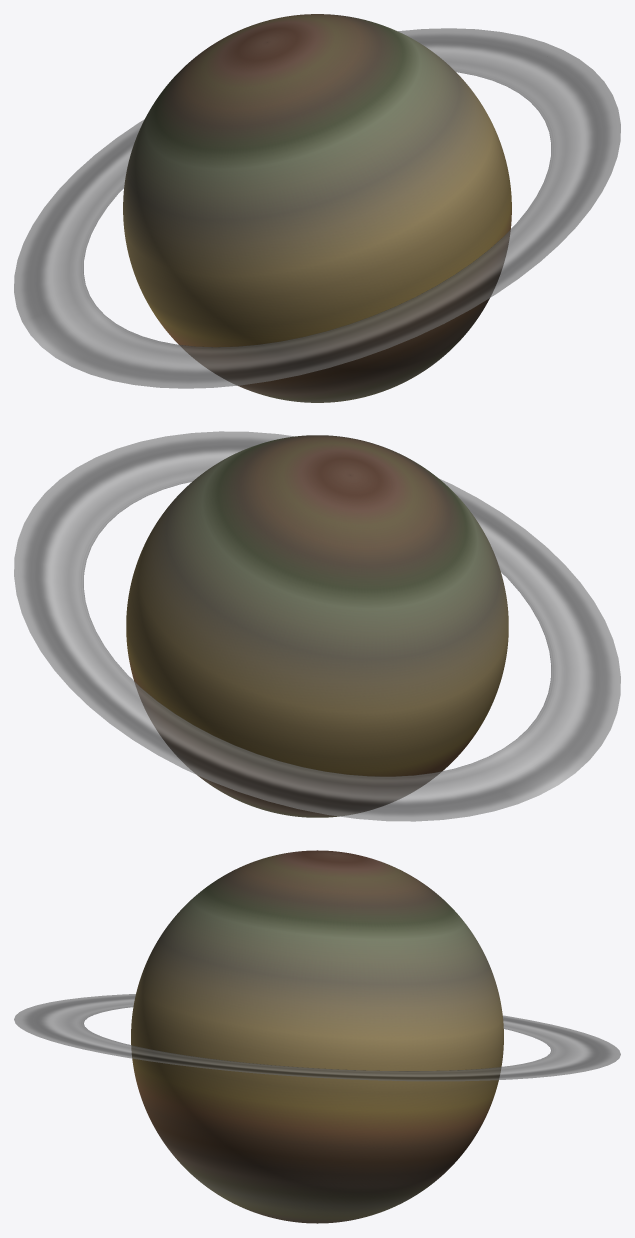
The model's file is gasgaint.glb.
The picture shows the model from 3 angles, top to bottom: view 1: azimuth 30°, elevation 25°; view 2: azimuth 150°, elevation 25°; view 3: azimuth 270°, elevation 25°; orthographic projection. The views are drawn at different scales.
Visible parts, largest first — view 1: Icosphere, Torus; view 2: Icosphere, Torus; view 3: Icosphere, Torus.
Boxes of the visible parts, left/top/right/bottom form: Icosphere: left=123, top=14, right=511, bottom=402; Torus: left=14, top=28, right=620, bottom=388; Icosphere: left=126, top=435, right=508, bottom=817; Torus: left=14, top=431, right=620, bottom=821; Icosphere: left=131, top=850, right=503, bottom=1223; Torus: left=14, top=994, right=620, bottom=1081.
Size of the model in its own units: 3.11 by 2 by 3.25.
Materials: 2 (2 with a texture image).
